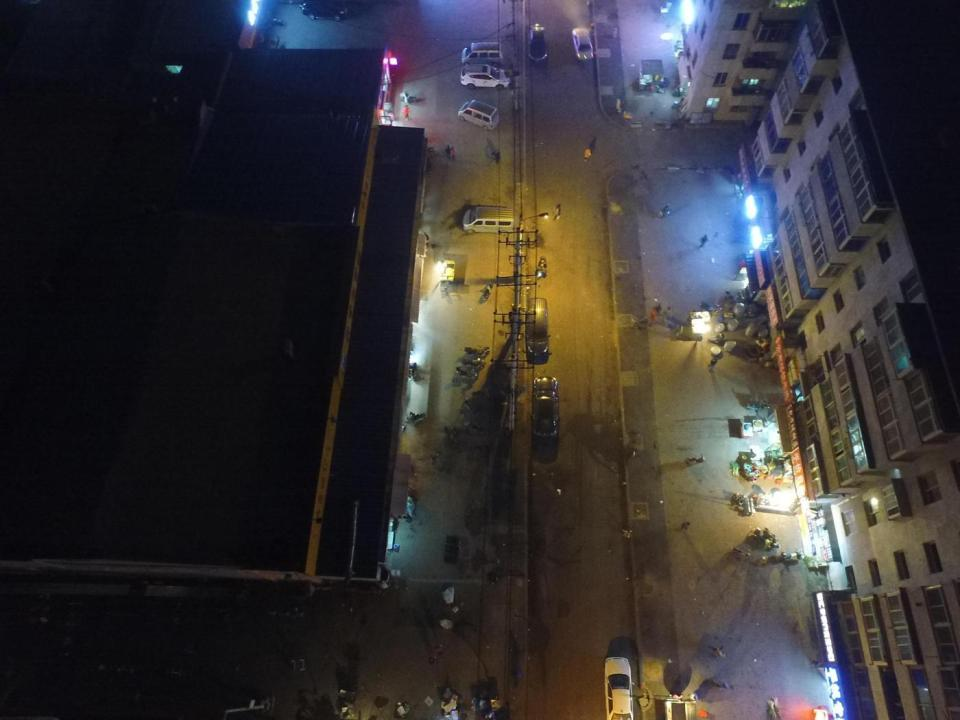car: (604, 657, 634, 720), (531, 376, 559, 437), (460, 64, 510, 89), (528, 25, 548, 62), (572, 27, 593, 60)
van: (525, 298, 551, 355), (462, 206, 514, 234), (458, 100, 498, 132), (461, 42, 502, 67)
